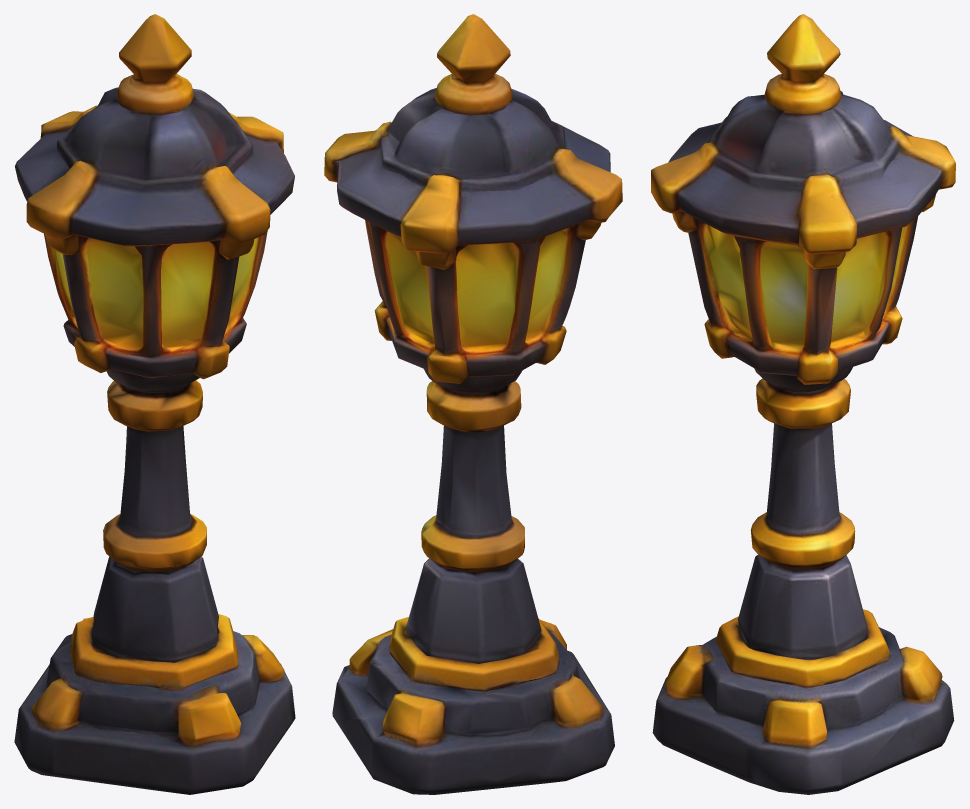
File: lamp.glb
3 renders of one model, left to right at view 1: azimuth 30°, elevation 25°; view 2: azimuth 150°, elevation 25°; view 3: azimuth 270°, elevation 25°, orthographic.
Visible parts, largest first — view 1: prop; view 2: prop; view 3: prop.
Part boxes in pixels (x1,y1,x2,y2): prop: (14,14,295,794); prop: (324,14,622,794); prop: (651,14,955,794).
Size of the model in its own units: 0.3816 by 1 by 0.3839.
1 material, 1 textured.
